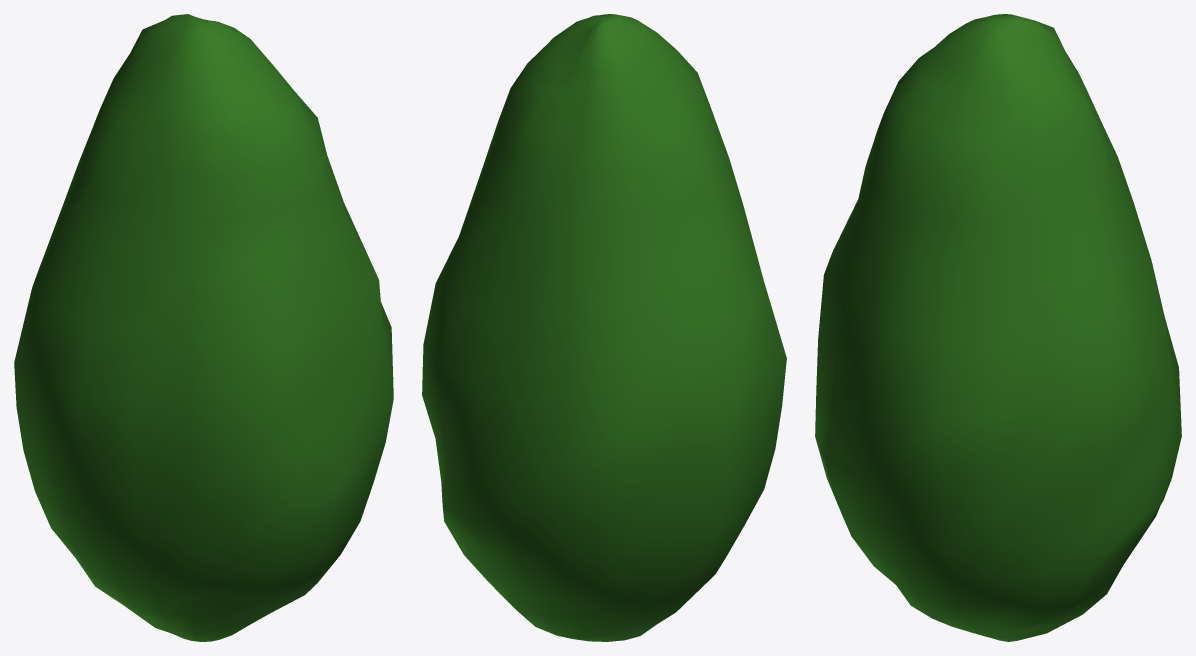
The model's file is Avacado.fbx.
3 views of the same model, side by side, from view 1: azimuth 30°, elevation 25°; view 2: azimuth 150°, elevation 25°; view 3: azimuth 270°, elevation 25° (orthographic).
Visible parts, largest first — view 1: pSphere1; view 2: pSphere1; view 3: pSphere1.
Part boxes in pixels (x1=…): pSphere1: x1=14, y1=14, x2=393, y2=641; pSphere1: x1=422, y1=14, x2=786, y2=641; pSphere1: x1=815, y1=14, x2=1181, y2=641.
Size of the model in its own units: 261 by 483 by 262.
